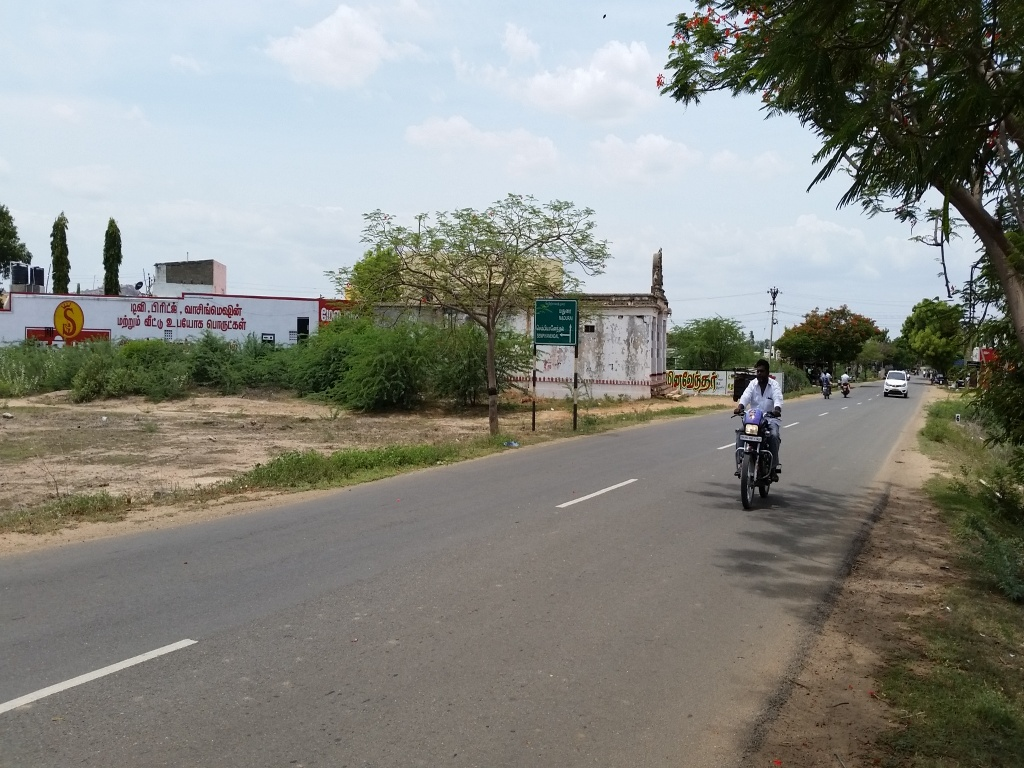biker: (711, 327, 806, 522)
nohelmet: (747, 352, 778, 382)
